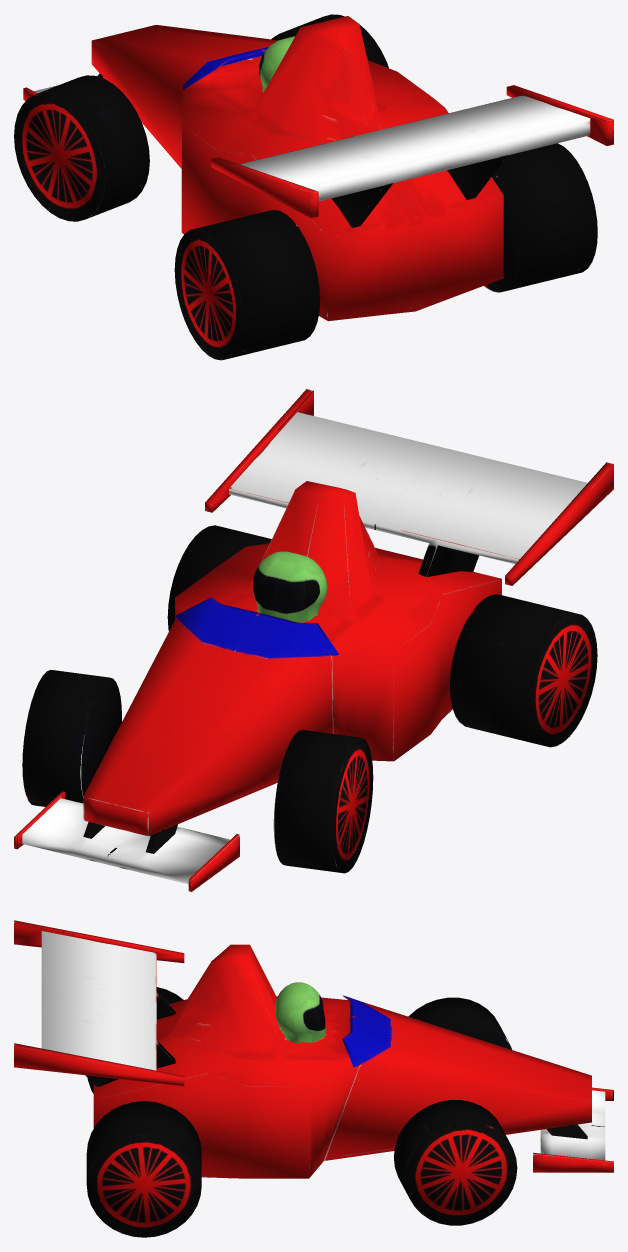
Rendered from MyCarSteerLeft.fbx.
3 views of the same model, one above another, from view 1: azimuth 30°, elevation 25°; view 2: azimuth 150°, elevation 25°; view 3: azimuth 270°, elevation 25° (orthographic). The views are drawn at different scales.
Visible parts, largest first — view 1: Sphere_003; view 2: Sphere_003; view 3: Sphere_003.
Boxes of the visible parts, x1=… form: Sphere_003: x1=14, y1=14, x2=613, y2=360; Sphere_003: x1=14, y1=389, x2=613, y2=891; Sphere_003: x1=14, y1=920, x2=613, y2=1237.
Size of the model in its own units: 6.09 by 4.01 by 10.43.
1 material, 1 textured.
